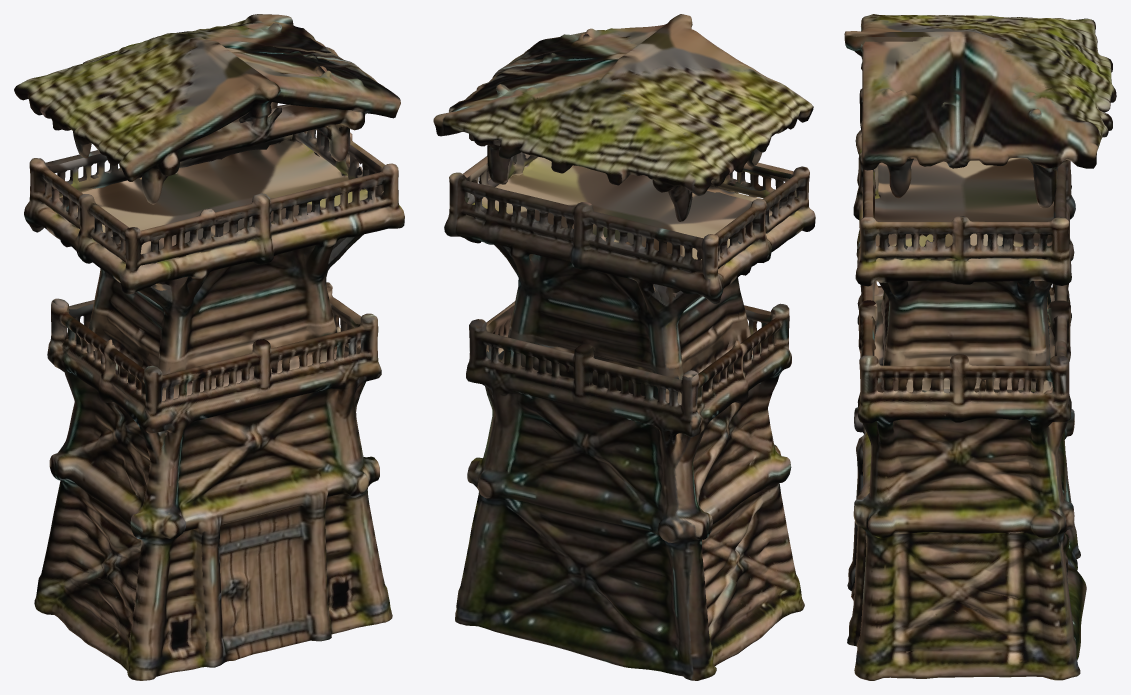
Rendered from struct_watchtower.glb.
3 views of the same model, side by side, from view 1: azimuth 30°, elevation 25°; view 2: azimuth 150°, elevation 25°; view 3: azimuth 270°, elevation 25° (orthographic). The views are drawn at different scales.
Visible parts, largest first — view 1: geometry_0; view 2: geometry_0; view 3: geometry_0.
Boxes of the visible parts, x1,y1,x2,y2 form: geometry_0: (14, 14, 404, 680); geometry_0: (433, 14, 815, 680); geometry_0: (844, 14, 1116, 680).
Bounding box in the file's own units: 6.72 × 13 × 5.49.
1 material, 1 textured.
